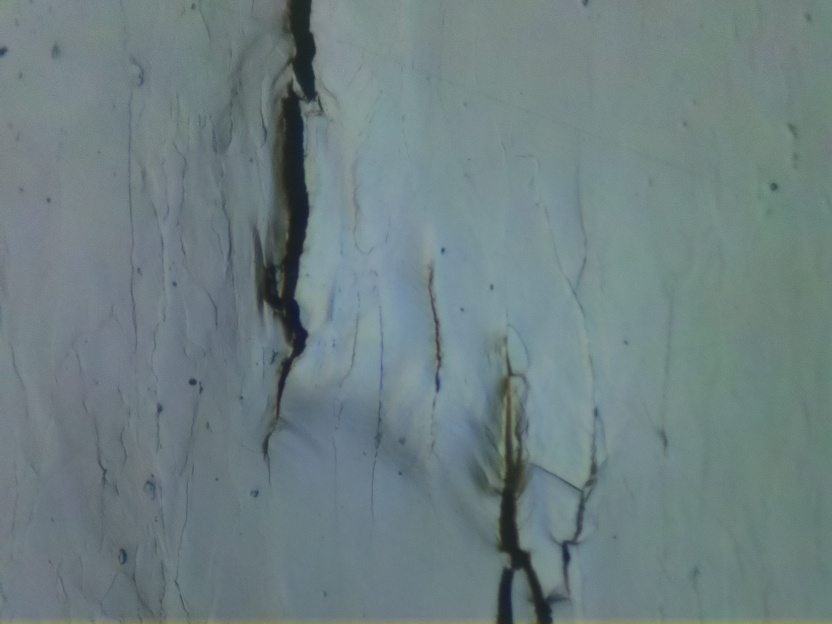crack: (267, 88, 312, 417), (494, 374, 552, 624), (556, 430, 614, 593), (284, 0, 327, 112), (424, 267, 449, 393)
